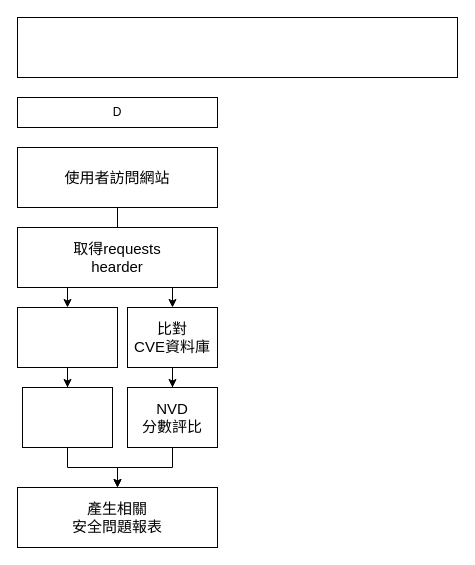
Some shapes in this 475 by 565 pixel diagram are drawn without their labels. The box of each missing label's shape, as (x1, y1, x2, y2) in pixels:
DFF檢測工具箱: (16, 16, 458, 78)
反查設備 型號: (22, 386, 112, 448)
比對 UA資料庫: (16, 306, 118, 368)
